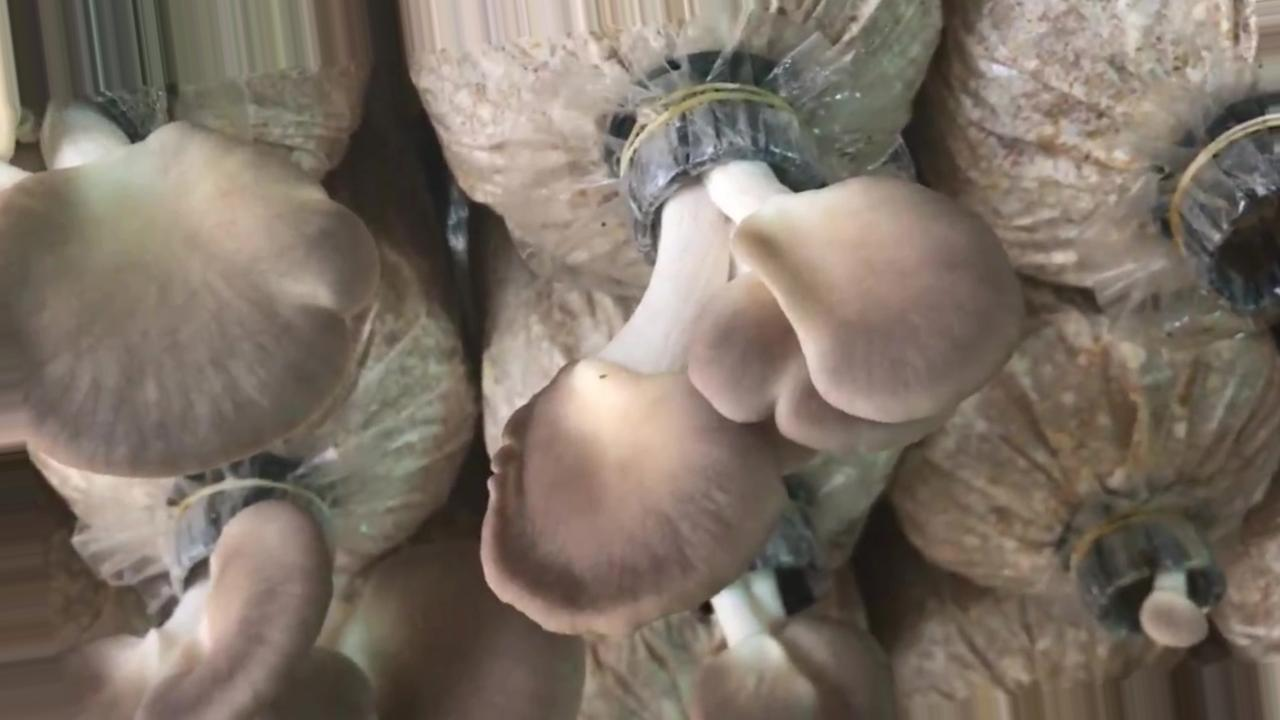nam: (482, 92, 1023, 632), (1, 86, 378, 478), (1, 480, 581, 718), (696, 488, 886, 719), (1075, 518, 1230, 642)
